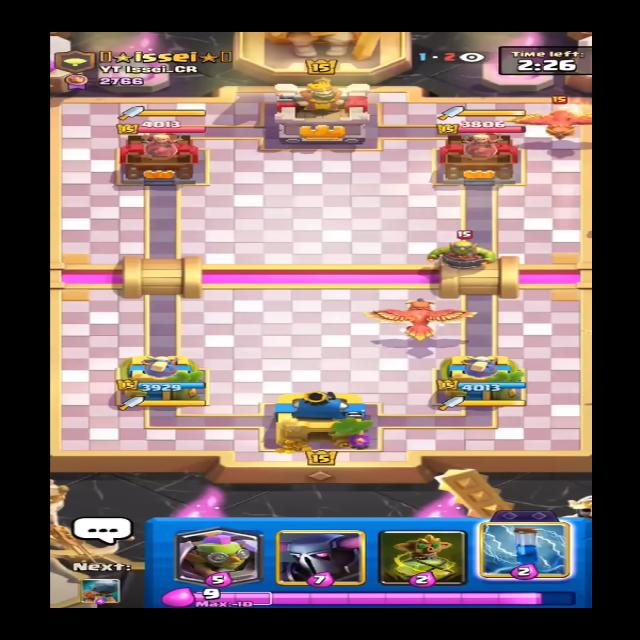Goblindemolisher: (422, 227, 500, 269)
Pheonix: (504, 93, 605, 137)
